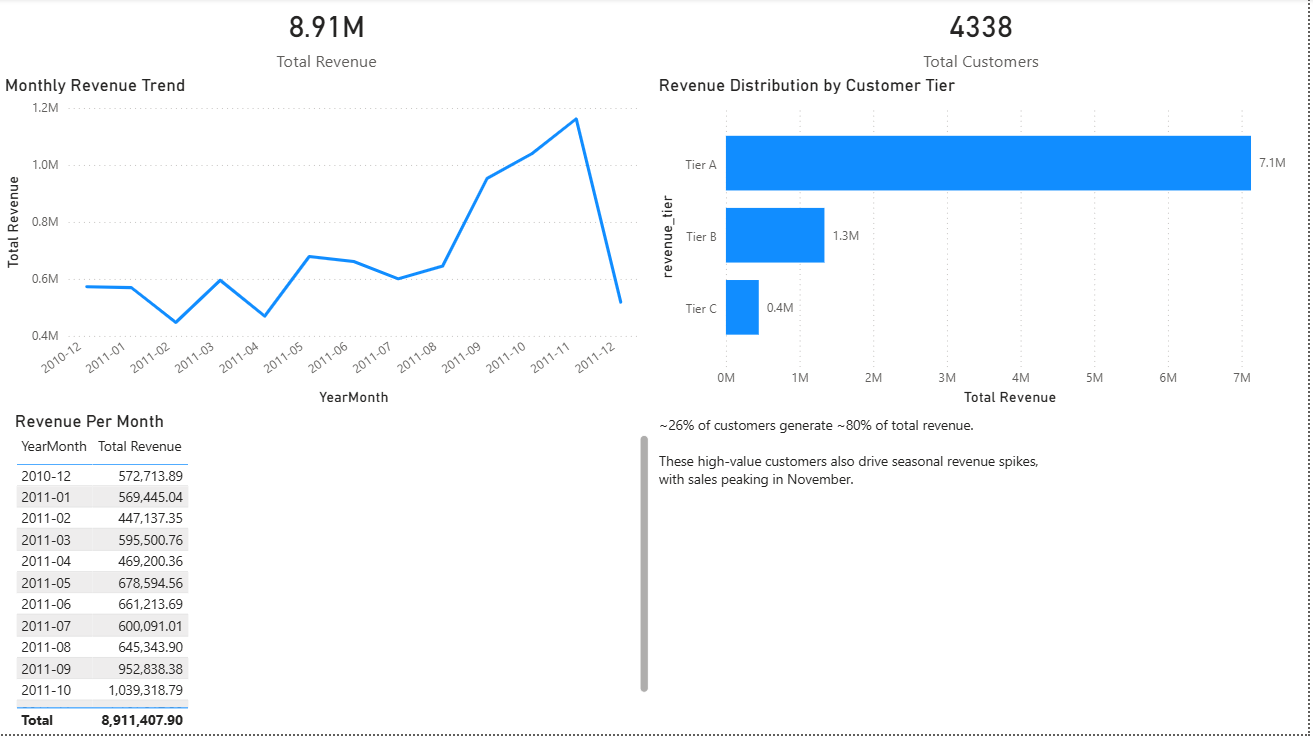

This screenshot's page, from the dashboard's own definition file:
{"tool":"powerbi","page":{"name":"Page 1","canvas":[1280,720],"ordinal":0},"visuals":[{"type":"barChart","fields":{"Category":["customer_revenue_tier.revenue_tier"],"Y":["online_retail.Total Revenue"]},"box":[9.8,0,629.8,370.5],"z":0},{"type":"tableEx","fields":{"Values":["DimDate.YearMonth","DimDate.Row Count"]},"box":[10,381,630,339],"z":1},{"type":"lineChart","fields":{"Category":["DimDate.YearMonth"],"Y":["online_retail.Total Revenue"]},"box":[650,0,630,371],"z":2}]}

Visuals, with their boxes in screenshot pixels (x1, y1, x2, y2), scaled from the page's 1280x720 canvas onto the 1313x736 screenshot:
barChart - customer_revenue_tier.revenue_tier x online_retail.Total Revenue: bbox=[10, 0, 656, 379]
tableEx - DimDate.YearMonth x DimDate.Row Count: bbox=[10, 389, 656, 735]
lineChart - DimDate.YearMonth x online_retail.Total Revenue: bbox=[667, 0, 1312, 379]
